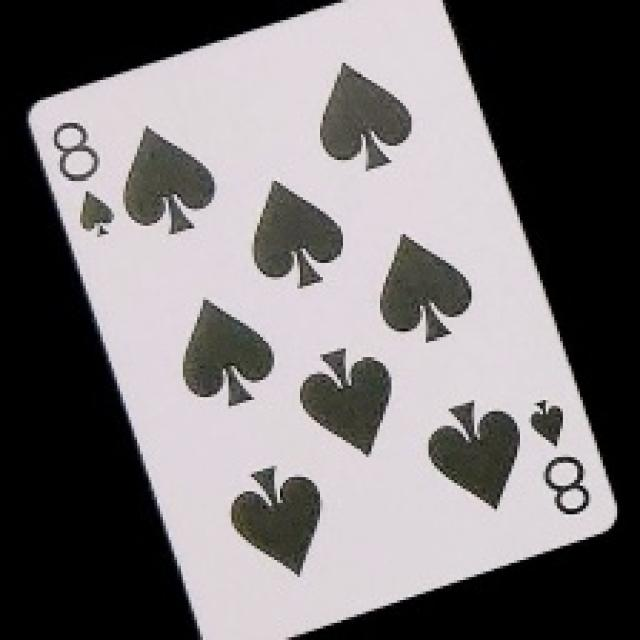Spade: (230, 464, 321, 578), (318, 61, 413, 169), (427, 401, 521, 510), (300, 348, 392, 458), (124, 124, 215, 234), (182, 298, 274, 406), (381, 234, 472, 342), (254, 180, 345, 287), (78, 190, 114, 237), (529, 398, 564, 446)
